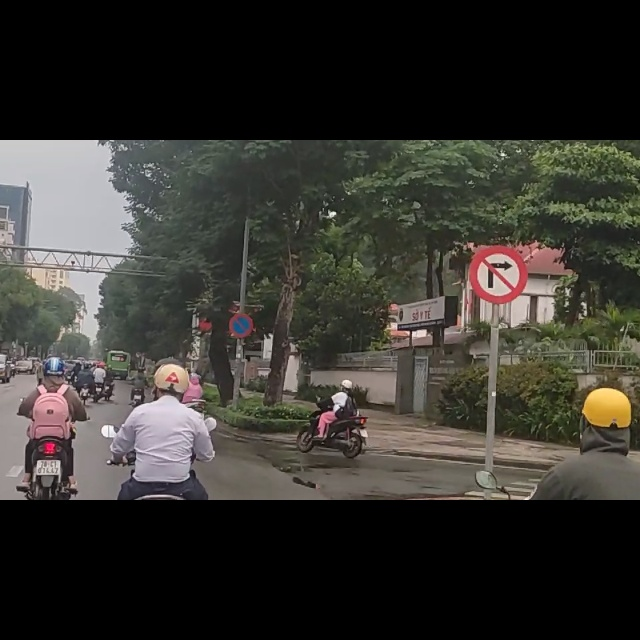bien_cam: (467, 186, 529, 292), (229, 307, 253, 352)
